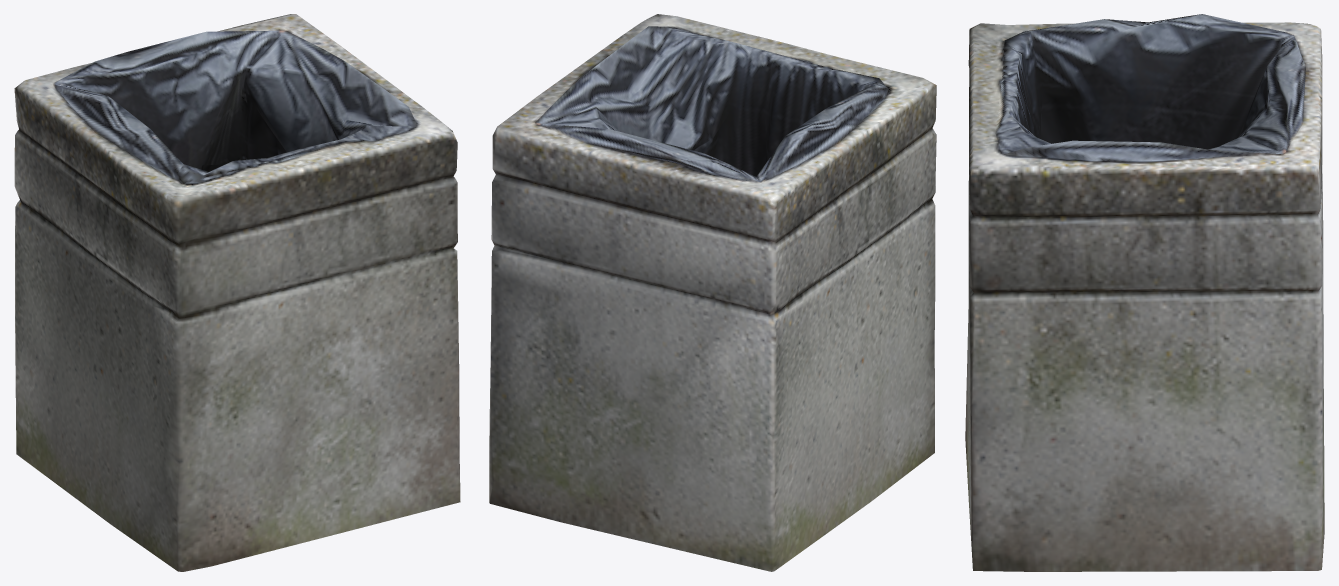
The model's file is Concrete_basket_pre.fbx.
The picture shows the model from 3 angles, left to right: view 1: azimuth 30°, elevation 25°; view 2: azimuth 150°, elevation 25°; view 3: azimuth 270°, elevation 25°; orthographic projection. The views are drawn at different scales.
Visible parts, largest first — view 1: Concrete_basket_LOD0; view 2: Concrete_basket_LOD0; view 3: Concrete_basket_LOD0.
Boxes of the visible parts, x1=… form: Concrete_basket_LOD0: x1=14, y1=14, x2=460, y2=571; Concrete_basket_LOD0: x1=489, y1=14, x2=936, y2=571; Concrete_basket_LOD0: x1=965, y1=14, x2=1324, y2=571.
Bounding box in the file's own units: 60.67 × 78.53 × 60.9.
